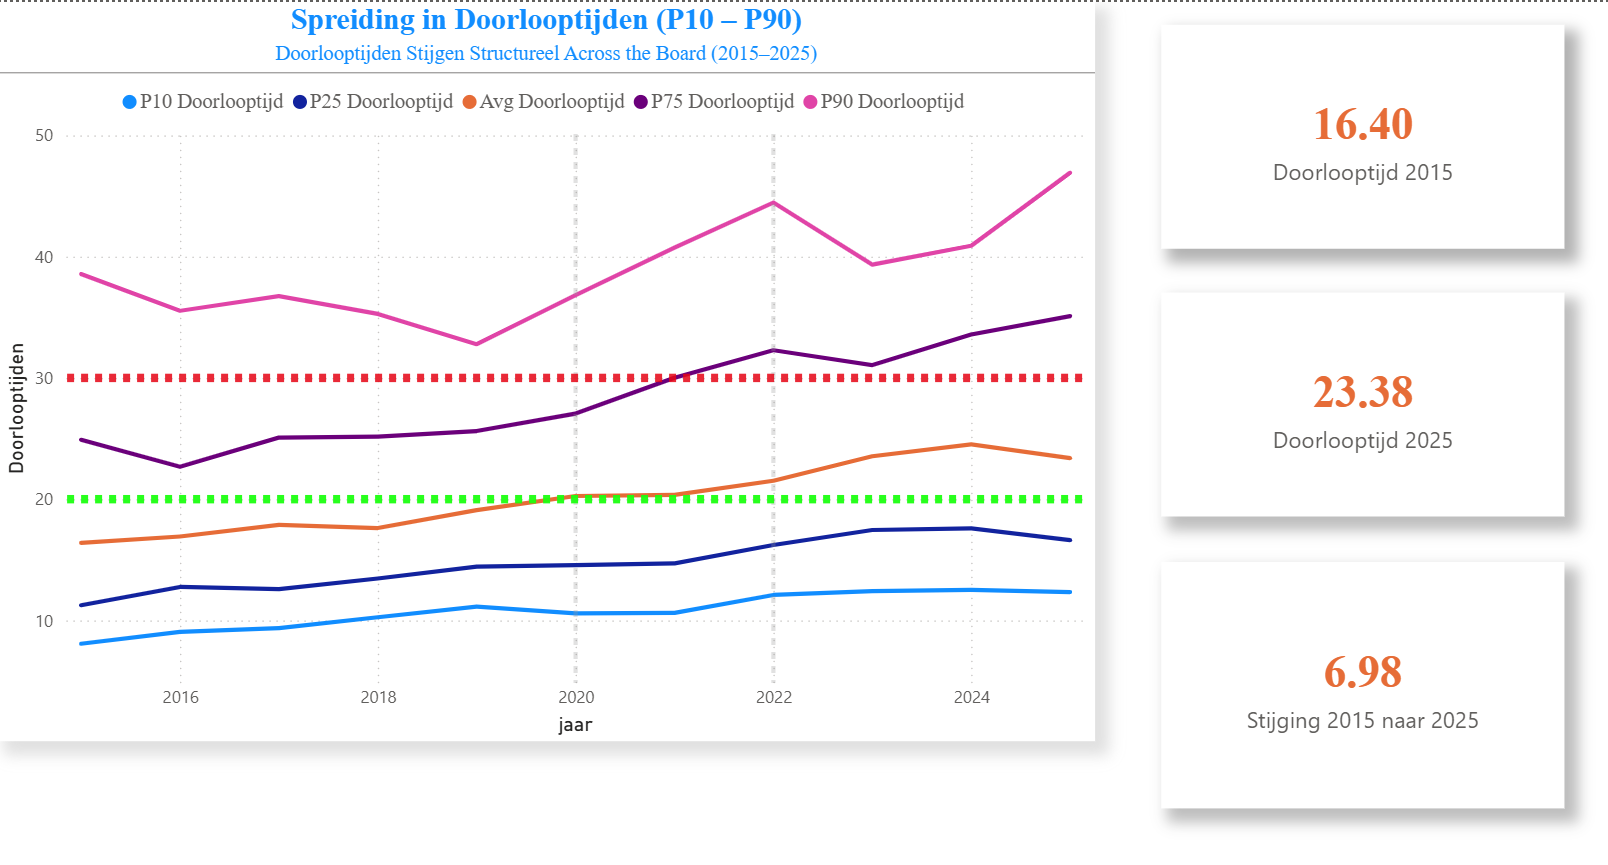

Layout of this report page (visuals, bound fields, positions):
{"tool":"powerbi","page":{"name":"Temporal Trends","canvas":[1280,720],"ordinal":1},"visuals":[{"type":"lineChart","title":"Spreiding in Doorlooptijden (P10 – P90)","fields":{"Y":["_Measures.P10 Doorlooptijd","_Measures.P25 Doorlooptijd","_Measures.Avg Doorlooptijd","_Measures.P75 Doorlooptijd","_Measures.P90 Doorlooptijd"],"Category":["fact_doorlooptijden.jaar"]},"box":[32,0,784,528],"z":0},{"type":"card","fields":{"Values":["_Measures.Doorlooptijd 2015"]},"box":[864,16,288,160],"z":1000},{"type":"card","fields":{"Values":["_Measures.Doorlooptijd 2025"]},"box":[864,208,288,160],"z":2000},{"type":"card","fields":{"Values":["_Measures.Stijging 2015 naar 2025"]},"box":[864,400,288,176],"z":3000},{"type":"lineChart","fields":{"Category":["dim_perioden.jaar"]},"box":[32,538,784,182],"z":4000}]}

Visuals, with their boxes on the page's 1280x720 design canvas (x1, y1, x2, y2). These are canvas units, not pixel positions in the 1608x865 screenshot, which may show the page scaled, cropped or inside an application window:
"Spreiding in Doorlooptijden (P10 – P90)" lineChart: <bbox>32, 0, 816, 528</bbox>
card - _Measures.Doorlooptijd 2015: <bbox>864, 16, 1152, 176</bbox>
card - _Measures.Doorlooptijd 2025: <bbox>864, 208, 1152, 368</bbox>
card - _Measures.Stijging 2015 naar 2025: <bbox>864, 400, 1152, 576</bbox>
lineChart - dim_perioden.jaar: <bbox>32, 538, 816, 720</bbox>
